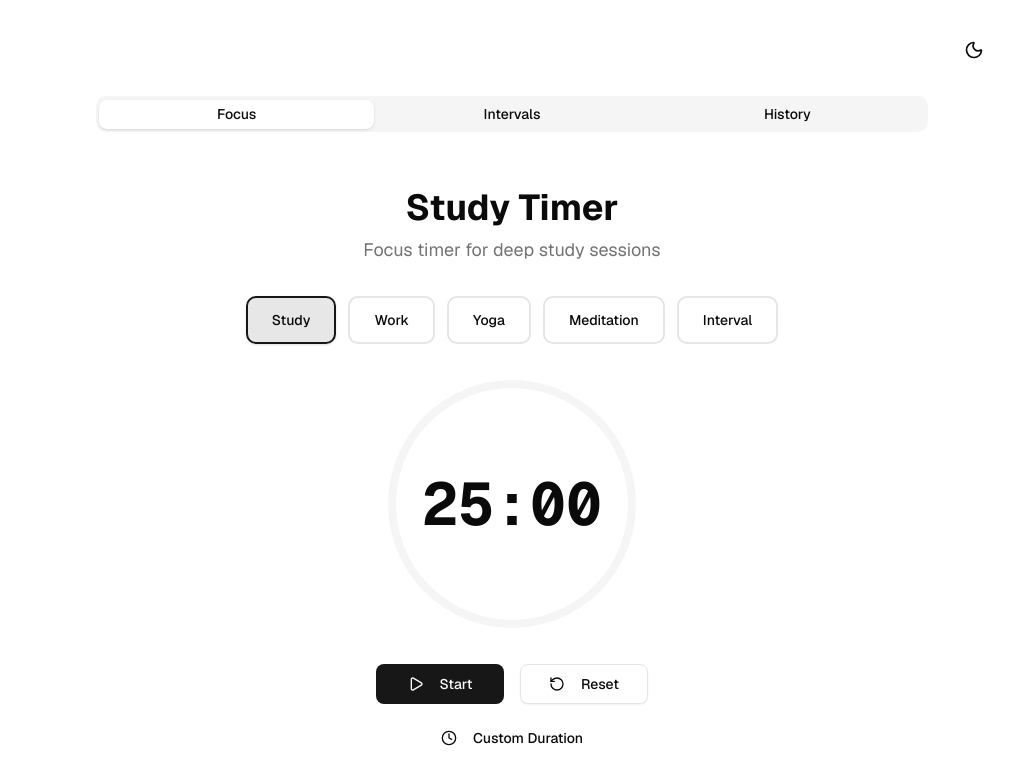
FocusTabs › Focus Mode Switching › should update title when switching to Work mode
Click the text "Work" at (392, 320), box [374,310,409,330]
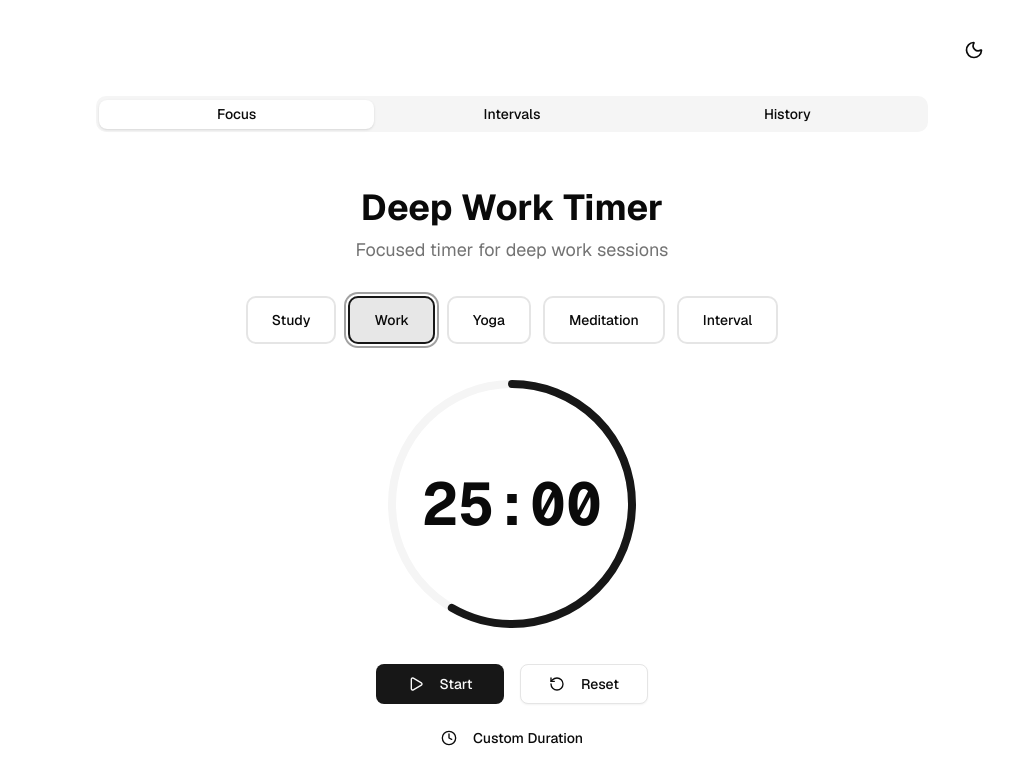
Expected: the heading "Deep Work Timer" is shown, [361,184,663,231]
Expected: the text "Focused timer for deep work sessions" is shown, [356,238,668,261]
